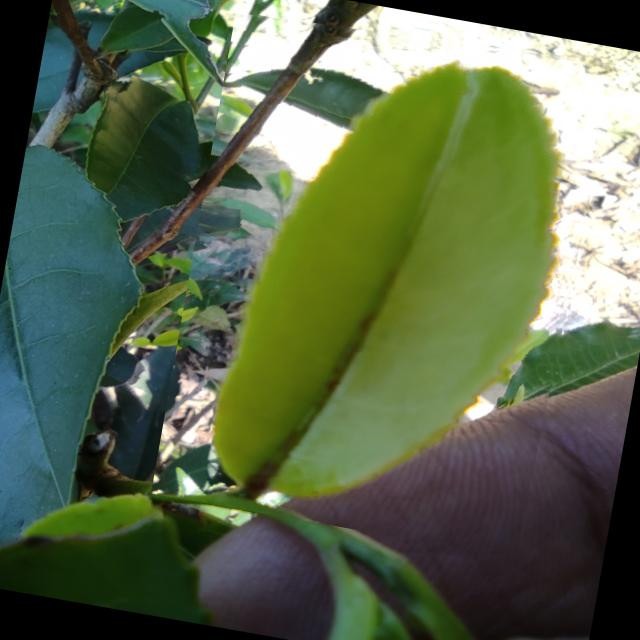Category C 4-7 days: (150, 0, 616, 560)
